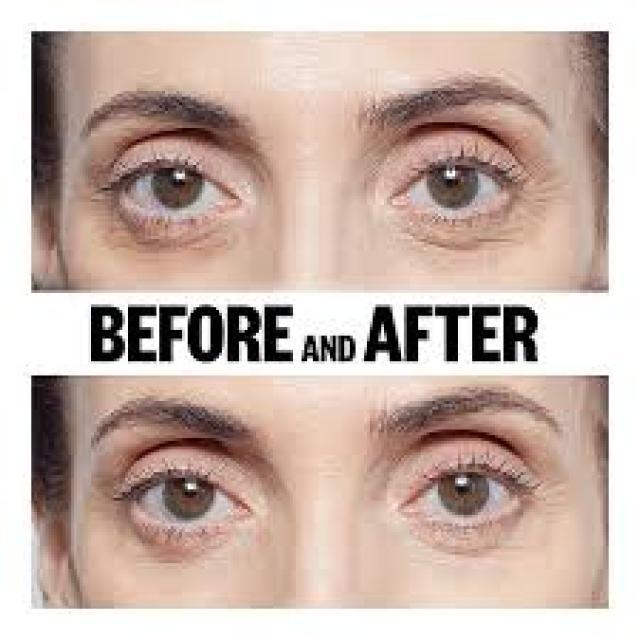Puffy Eyes - v3 Dark Circle: (110, 209, 247, 268), (391, 216, 537, 256)
